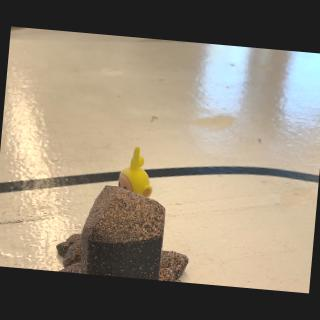teletubby: (118, 147, 152, 197)
